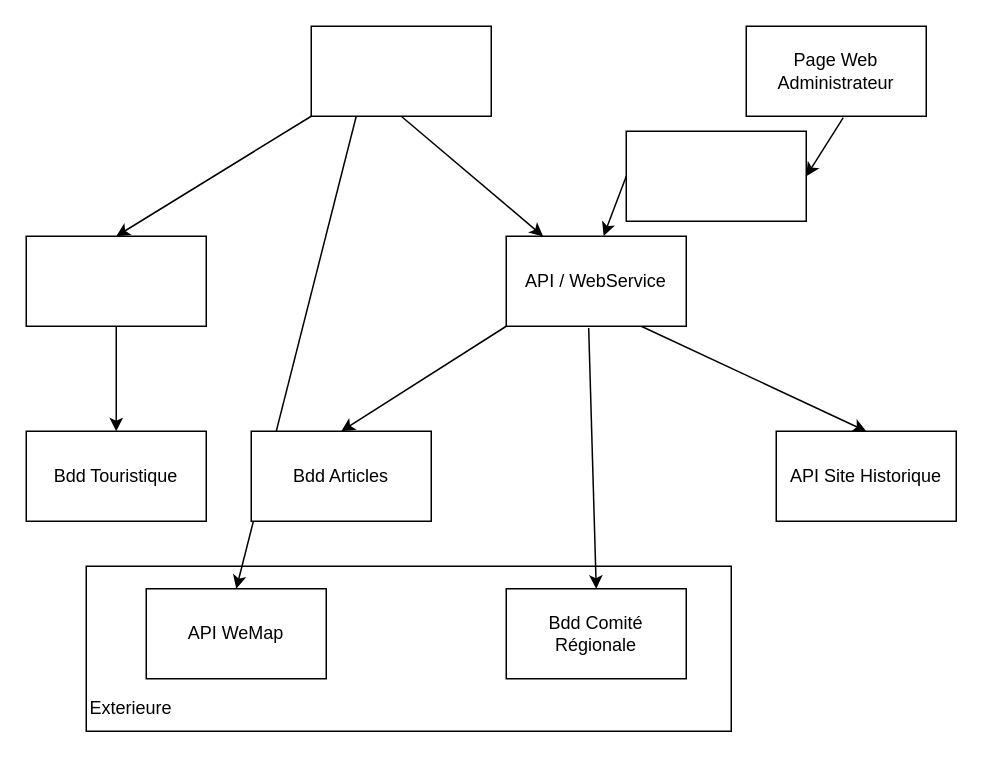
Image size: 983x758. Some labels were removed from this diagram. The shapes that lost their labels are listed below. From the top down, each one's box as (x1, y1, x2, y2) in pixels, then its label:
(310, 25, 491, 116): Page Web Utilisateur
(625, 130, 806, 221): Authentification
(25, 235, 206, 326): API Offre séjour
